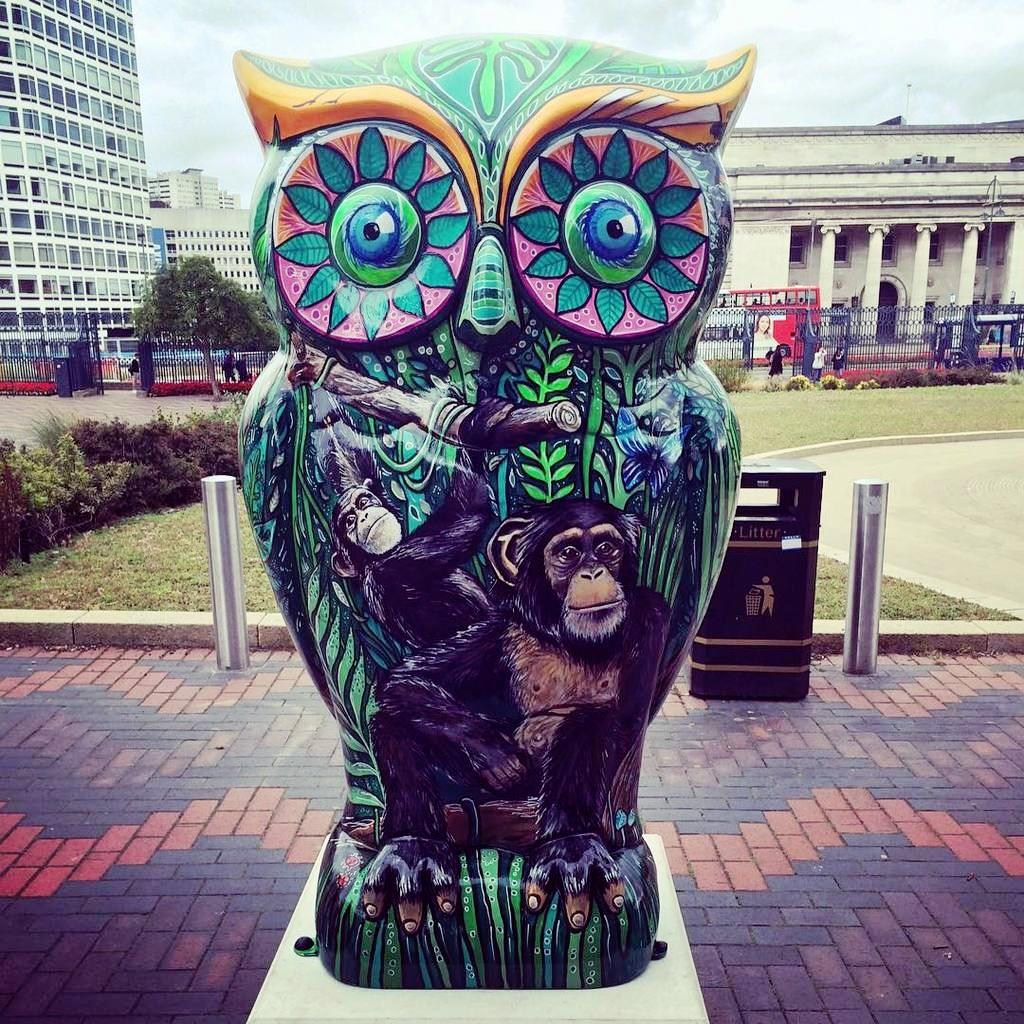Owl: (240, 28, 760, 936)
